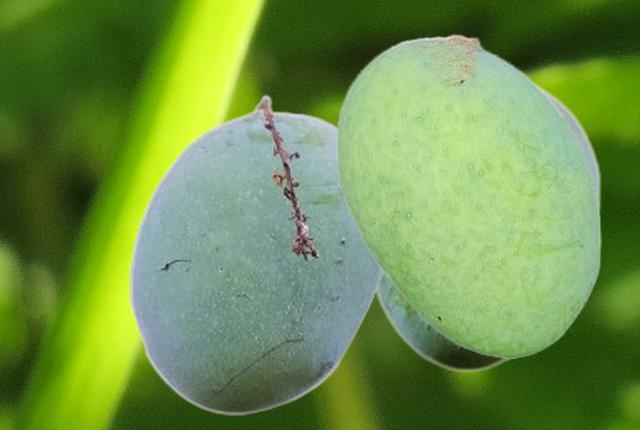green_mango: (336, 33, 600, 357), (128, 94, 384, 414), (374, 80, 601, 371)
